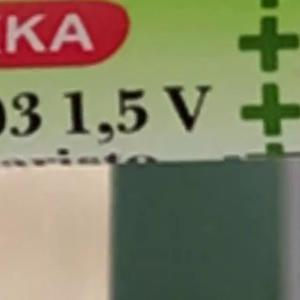keyword: (23, 75, 220, 176)
